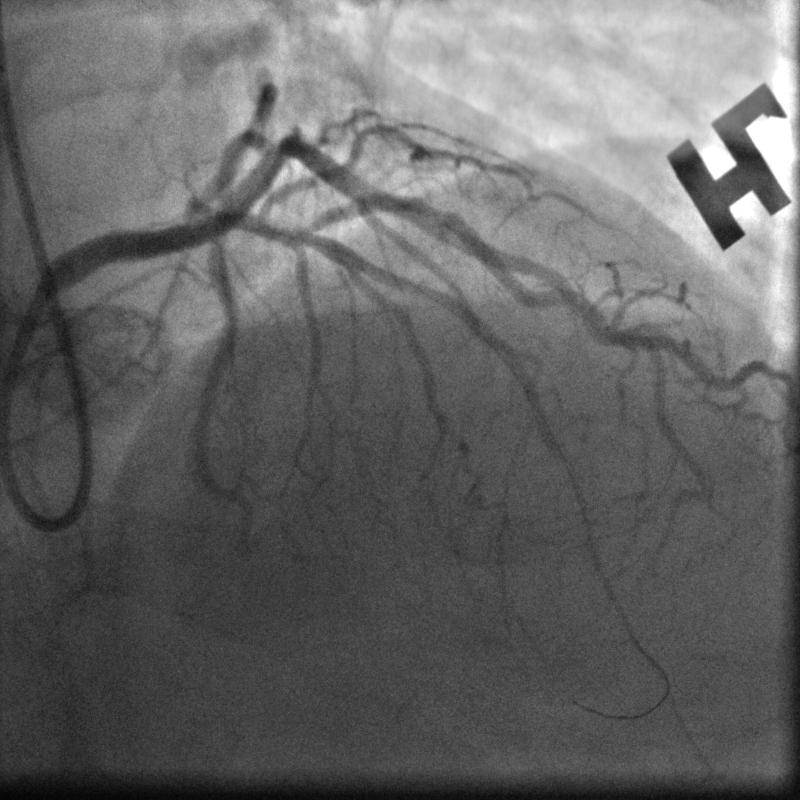Stenosis: (421, 195, 455, 230)
